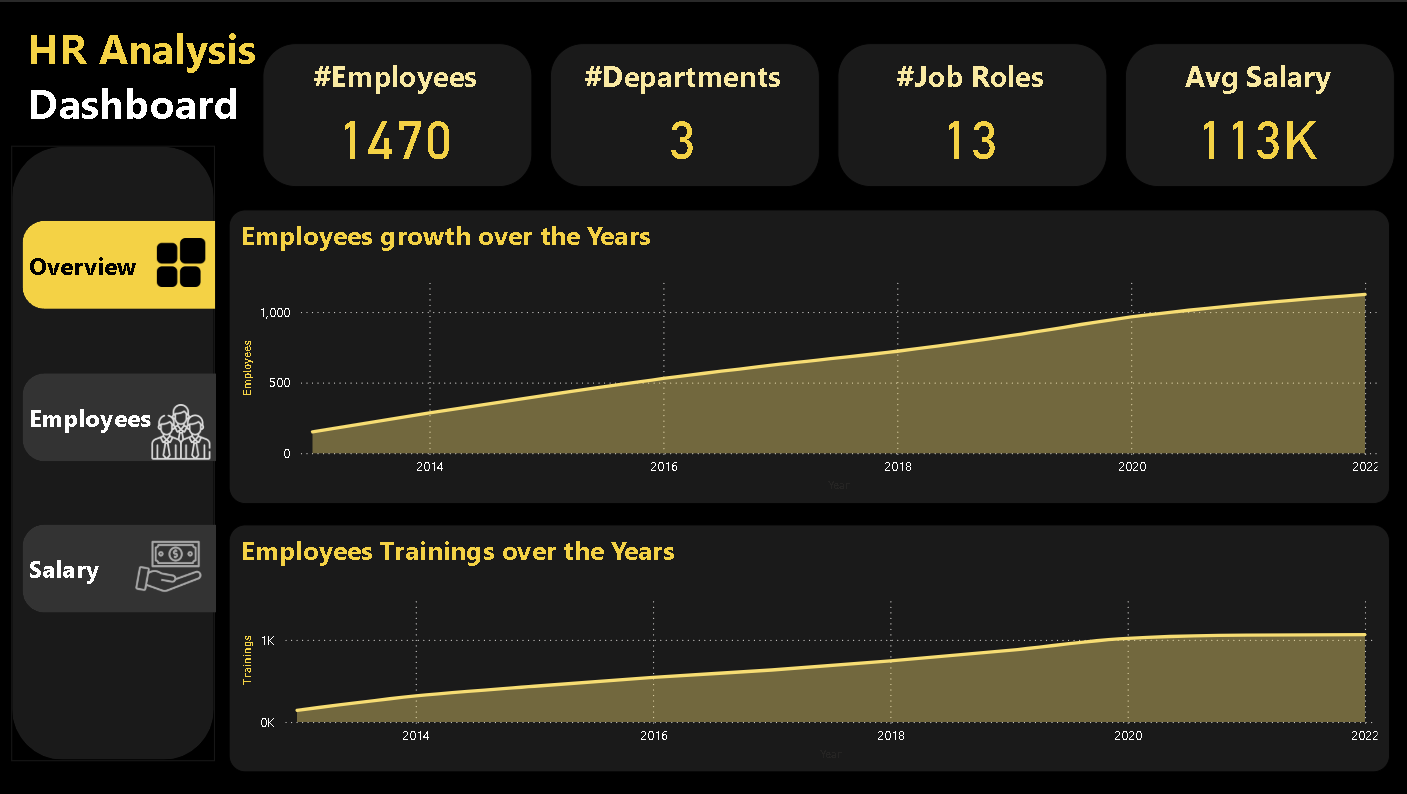

The dashboard page shown, as its layout file describes it:
{"tool":"powerbi","page":{"name":"Overview","canvas":[1280,720],"ordinal":0},"visuals":[{"type":"card","title":"#Employees","fields":{"Values":["Count(Employee.EmployeeID)"]},"box":[238,37.7,245,130],"z":0},{"type":"card","title":"#Job Roles","fields":{"Values":["Count(Employee.JobRole)"]},"box":[760,37.7,245,130],"z":1000},{"type":"card","title":"Avg Salary","fields":{"Values":["Avg(Employee.Salary)"]},"box":[1021.1,37.7,245,130],"z":2000},{"type":"card","title":"#Departments","fields":{"Values":["Count(Employee.Department)"]},"box":[499,37.7,245,130],"z":3000},{"type":"textbox","box":[20.6,11,286.8,119.4],"z":4000},{"type":"lineChart","title":"Employees growth over the Years","fields":{"Y":["CountNonNull(Performance Rating.EmployeeID)"],"Category":["DimDate.Year"]},"box":[207.3,188.7,1053.9,266.9],"z":5000},{"type":"shape","box":[10,130,185,558.3],"z":6000},{"type":"shape","title":"Overvie","box":[20,198.3,175,80],"z":7000},{"type":"shape","title":"Overvie","box":[20,336.3,175.7,80],"z":8000,"group":"g1"},{"type":"shape","title":"Overvie","box":[20,474.3,175.7,80],"z":8000},{"type":"image","box":[132.5,206.2,63.8,60],"z":9000},{"type":"image","box":[121.3,358,86,63.3],"z":10000,"group":"g1"},{"type":"image","box":[110,473.8,86.2,76.2],"z":10000},{"type":"lineChart","title":"Employees Trainings over the Years","fields":{"Y":["Sum(Performance Rating.Training Opportunities Taken)"],"Category":["DimDate.Year"]},"box":[207.5,473.8,1053.8,225],"z":11000},{"type":"group","id":"g1","title":"Group 1","box":[20,336.3,187.3,85],"z":12000}]}

Visuals, with their boxes in screenshot pixels (x1, y1, x2, y2), scaled from the page's 1280x720 canvas onto the 1407x794 screenshot:
"#Employees" card: bbox=(262, 42, 531, 185)
"#Job Roles" card: bbox=(835, 42, 1105, 185)
"Avg Salary" card: bbox=(1122, 42, 1392, 185)
"#Departments" card: bbox=(549, 42, 818, 185)
textbox: bbox=(23, 12, 338, 144)
"Employees growth over the Years" lineChart: bbox=(228, 208, 1386, 502)
shape: bbox=(11, 143, 214, 759)
"Overvie" shape: bbox=(22, 219, 214, 307)
"Overvie" shape: bbox=(22, 371, 215, 459)
"Overvie" shape: bbox=(22, 523, 215, 611)
image: bbox=(146, 227, 216, 294)
image: bbox=(133, 395, 228, 465)
image: bbox=(121, 522, 216, 607)
"Employees Trainings over the Years" lineChart: bbox=(228, 522, 1386, 771)
"Group 1" group: bbox=(22, 371, 228, 465)
